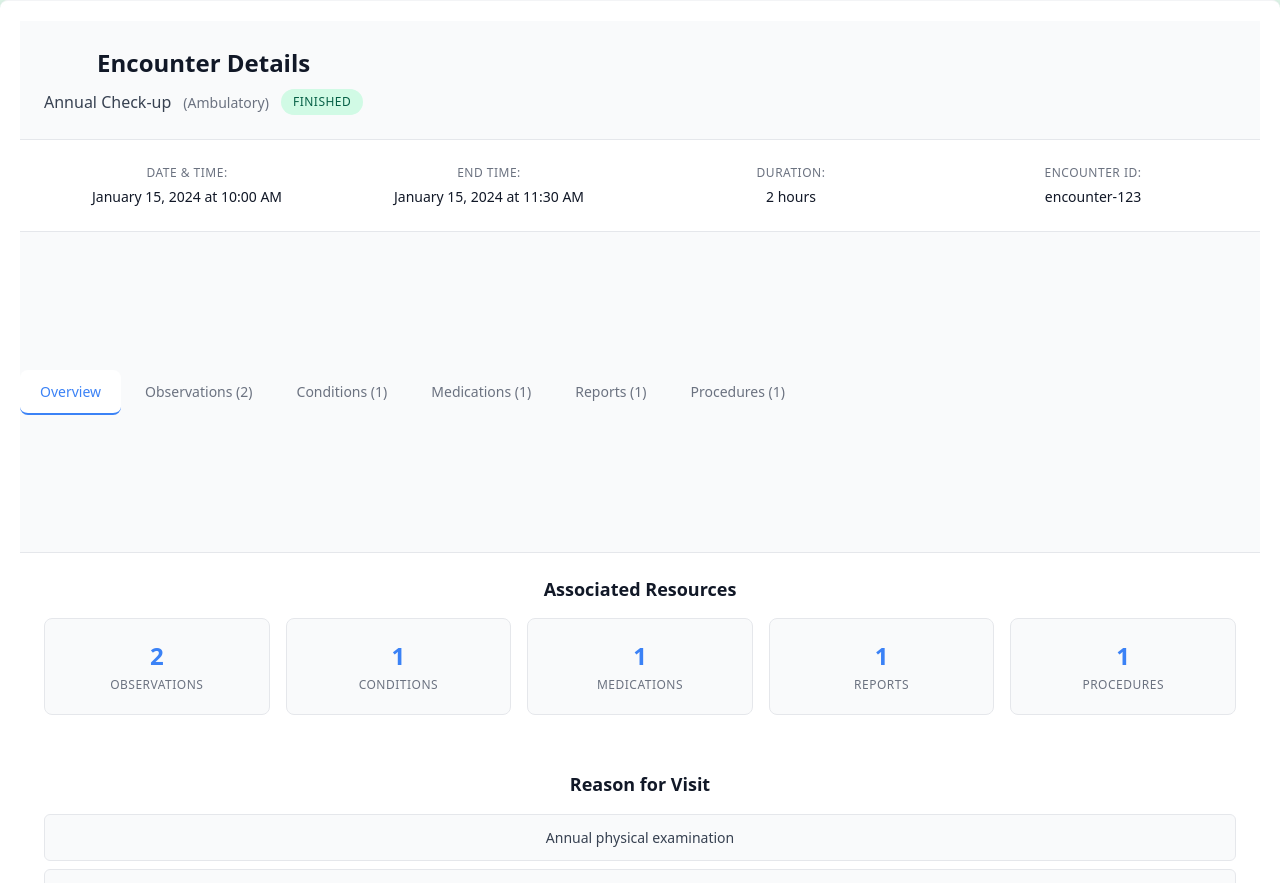
Test: EncounterDetails Integration › navigates through all resource tabs and displays resources correctly
This screenshot has width=1280, height=883.
Test Observations tab
Click the button "Observations (2)". click: coordinates (199, 392)
box: [125,370,273,414]
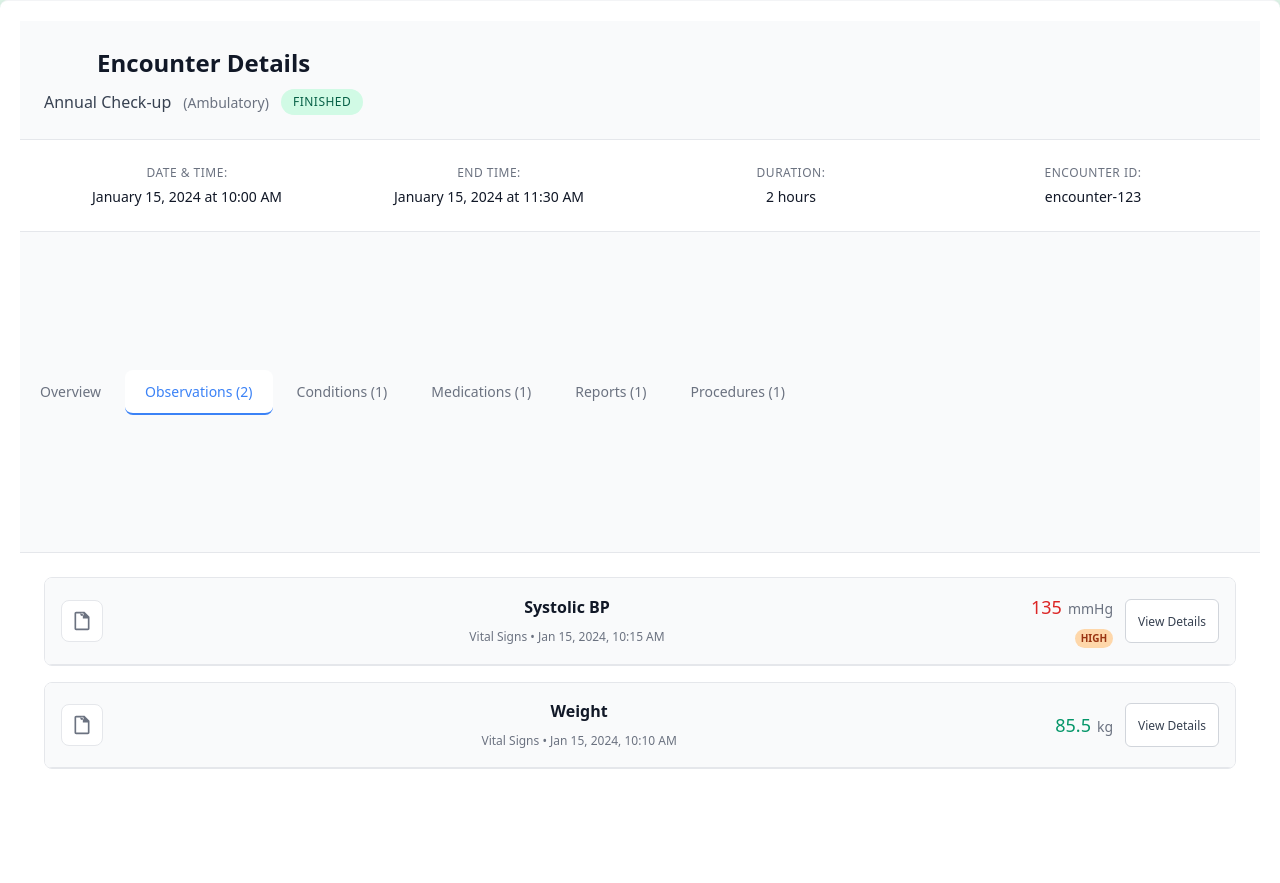
expect the heading "Systolic BP" is shown: met, box [524,596,610,618]
expect the heading "Weight" is shown: met, box [551,700,608,722]
expect the text "135" is shown: met, box [1031,594,1062,621]
Test Conditions tab
Click the button "Conditions (1)". click: coordinates (342, 392)
box: [276,370,407,414]
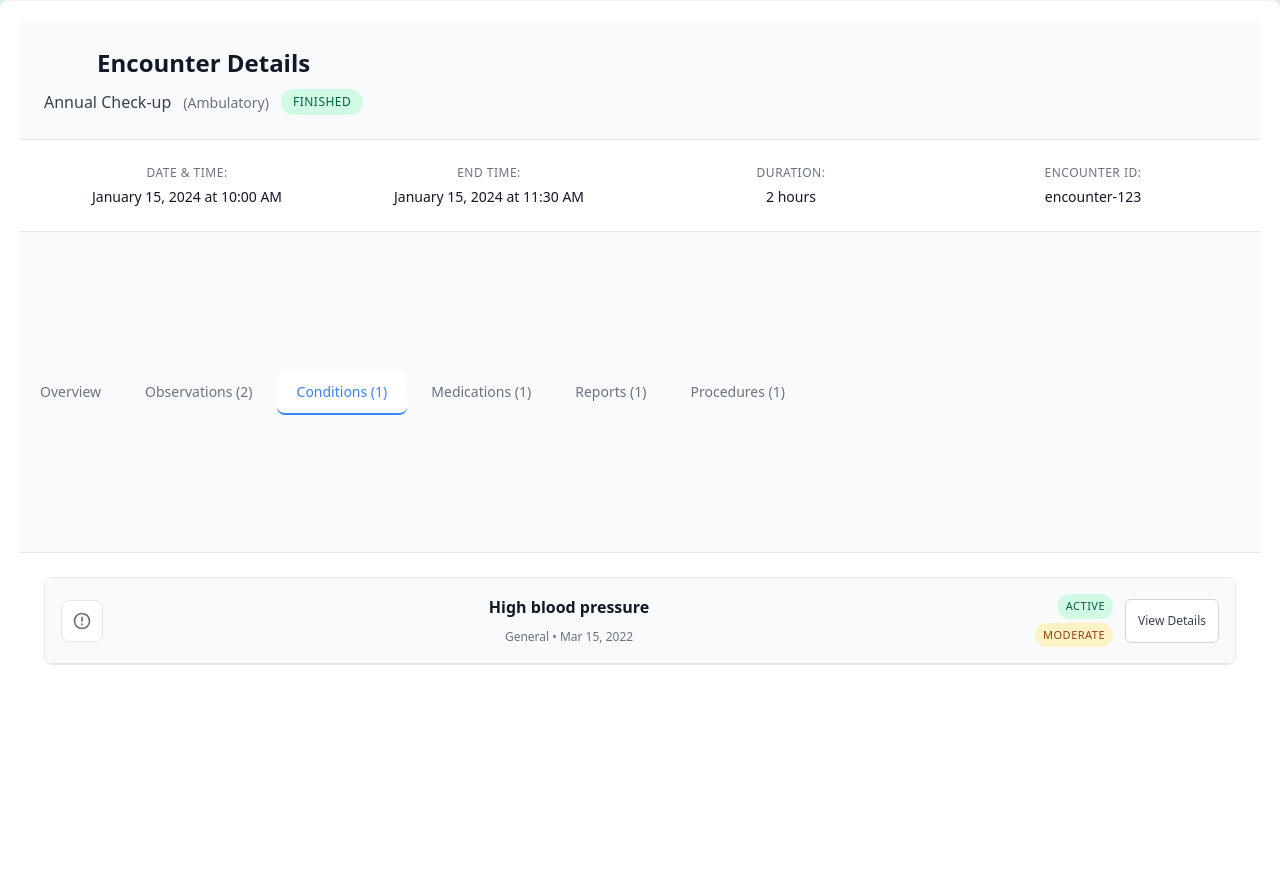
expect the heading "High blood pressure" is shown: met, box [489,596,649,618]
expect the text "Active" is shown: met, box [1058,594,1113,618]
expect the text "Moderate" is shown: met, box [1035,622,1113,647]
Test Medications tab
Click the button "Medications (1)". click: coordinates (481, 392)
box: [411,370,551,414]
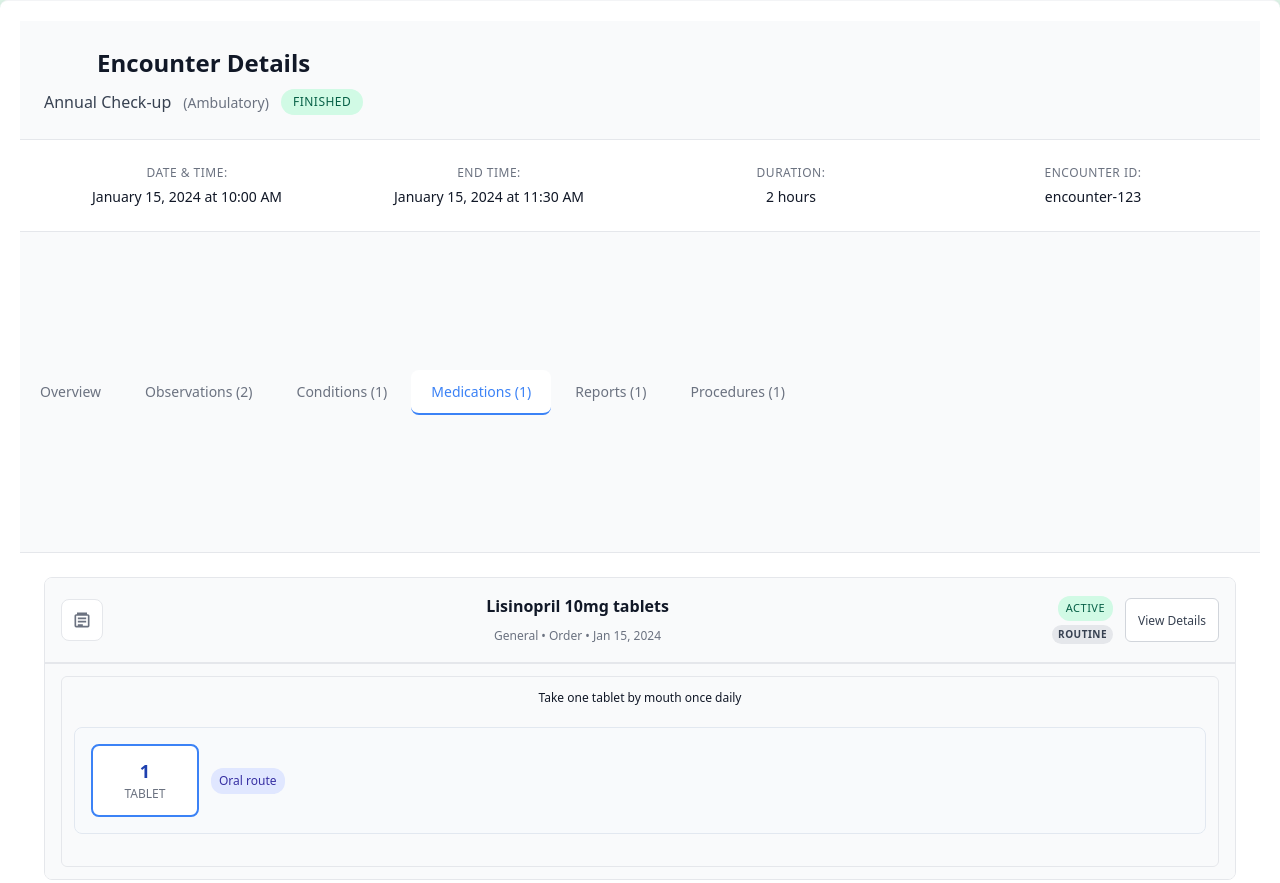
expect the heading "Lisinopril 10mg tablets" is shown: met, box [486,595,669,617]
expect the text "Take one tablet by mouth once daily" is shown: met, box [538,689,742,706]
Test Reports tab
Click the button "Reports (1)". click: coordinates (611, 392)
box: [555,370,666,414]
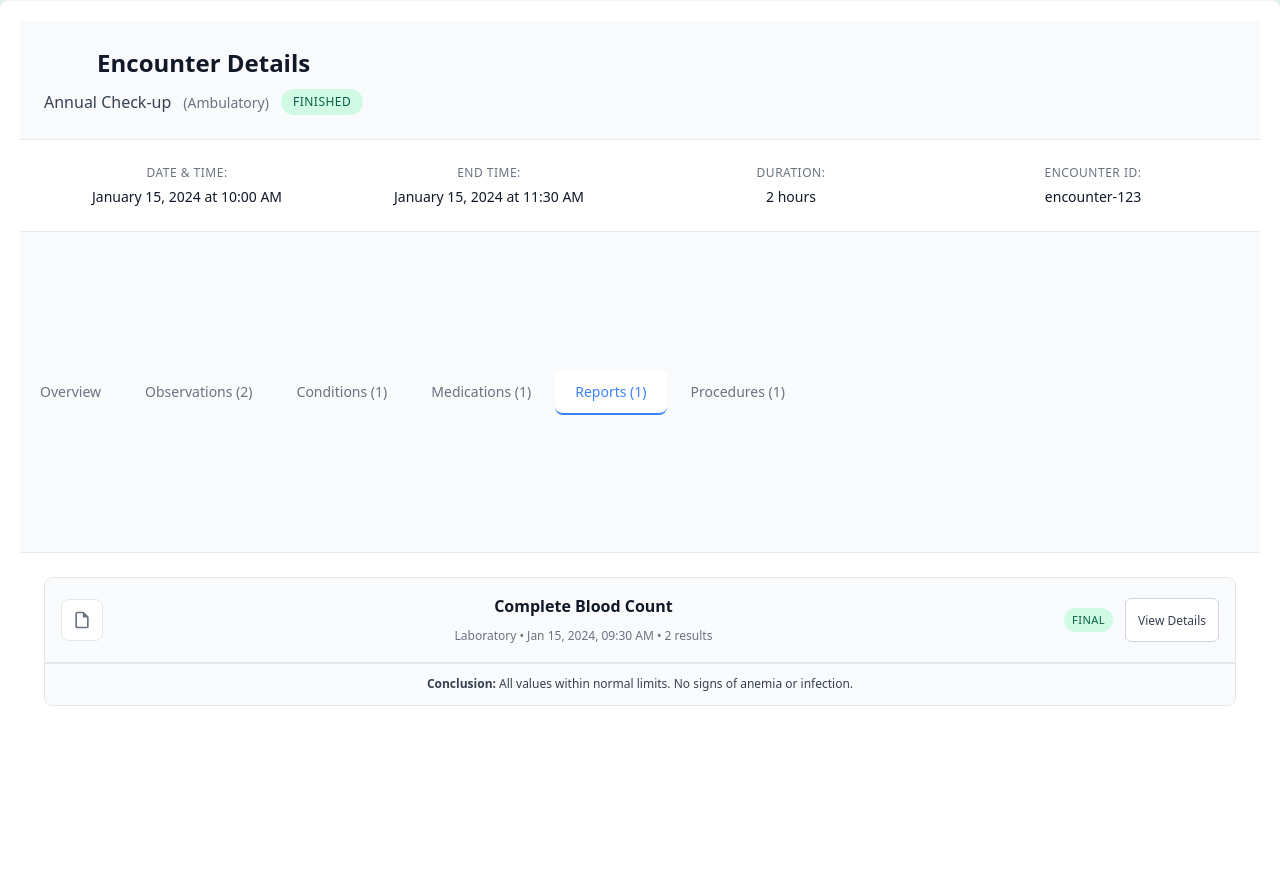
expect the heading "Complete Blood Count" is shown: met, box [494,595,673,617]
expect the text "All values within normal limits. No signs of anemia or infection." is shown: met, box [499,675,853,692]
Test Procedures tab
Click the button "Procedures (1)". click: coordinates (738, 392)
box: [670,370,805,414]
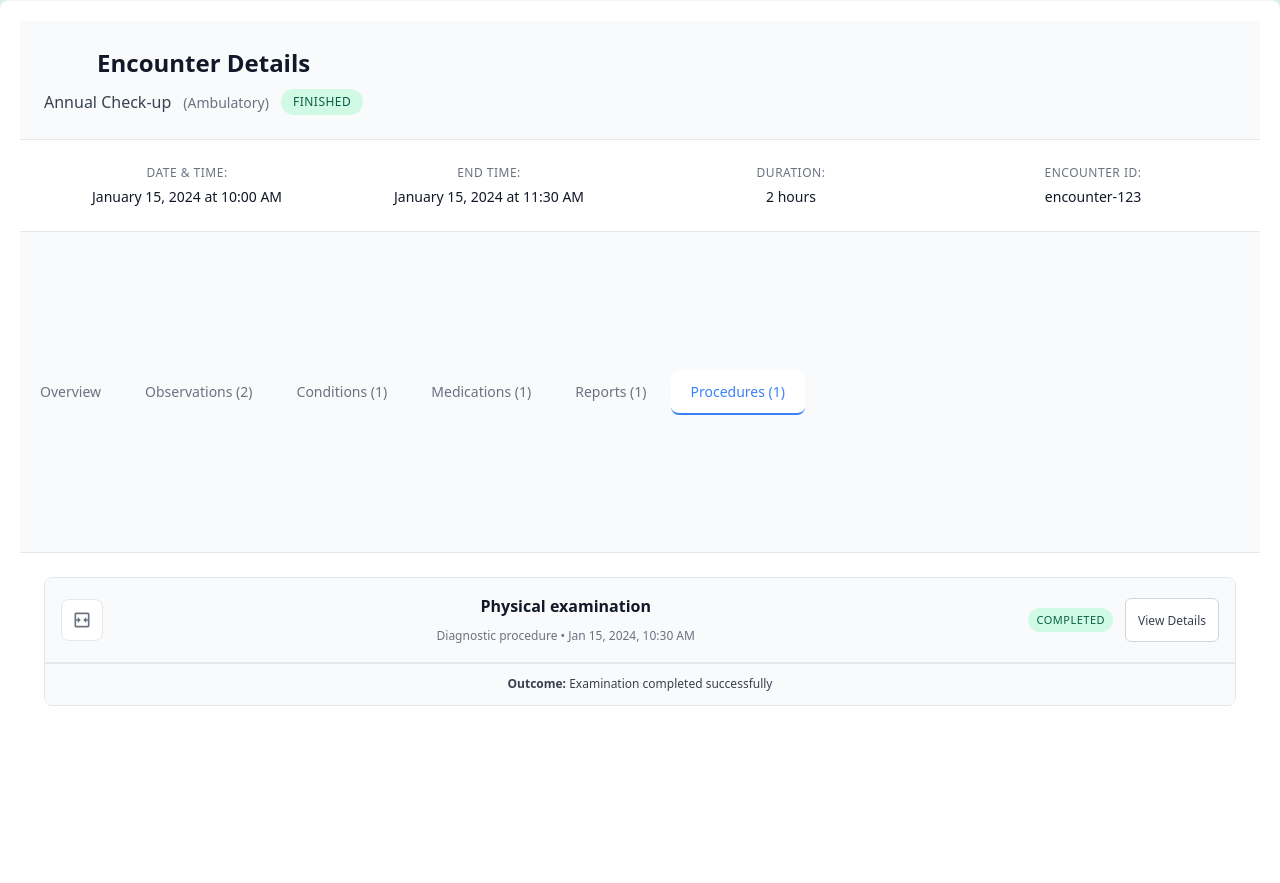
expect the heading "Physical examination" is shown: met, box [480,595,651,617]
expect the text "Examination completed successfully" is shown: met, box [569,675,772,692]
